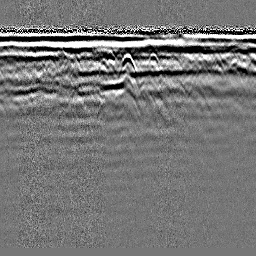cavity: (120, 52, 138, 74)
